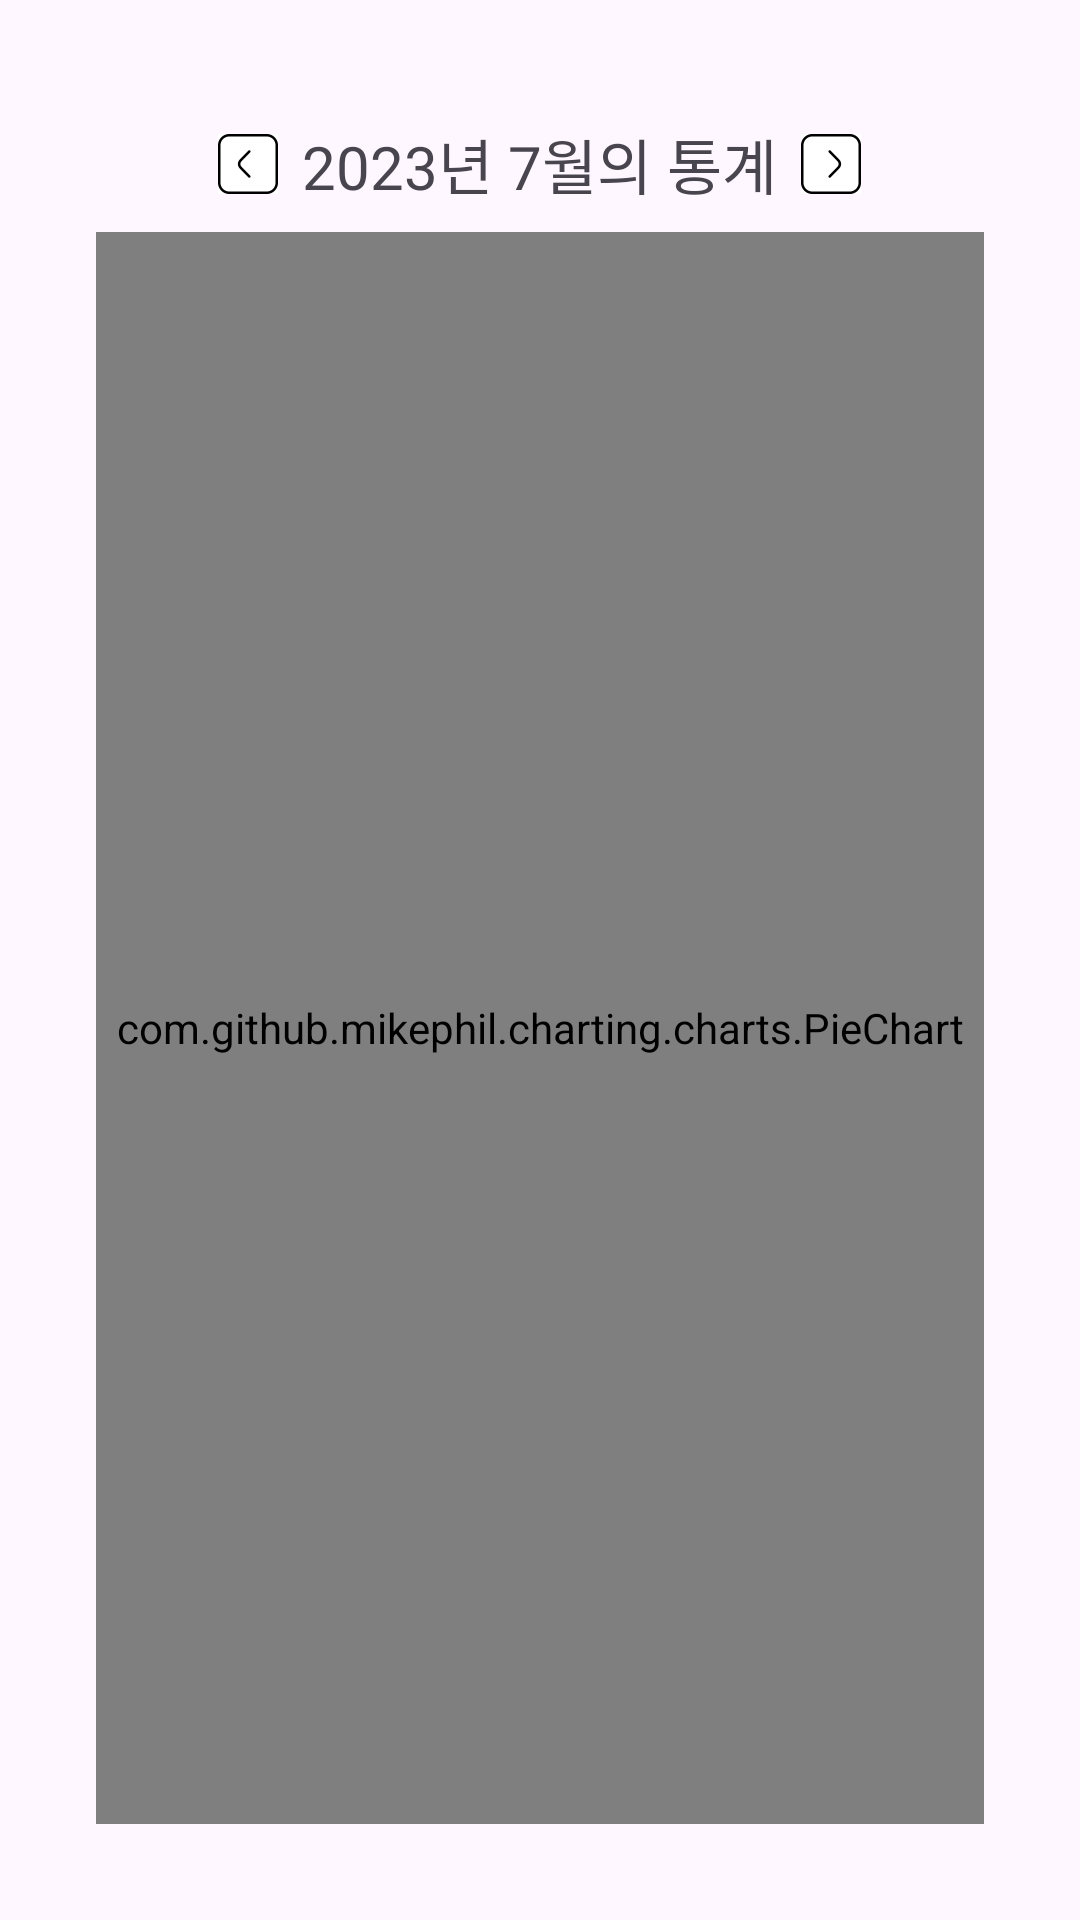

Icons on this 1080×1920 Android screen, each with the point to tap as (x,y):
angle square left: (248,164)
angle square right: (831,164)
